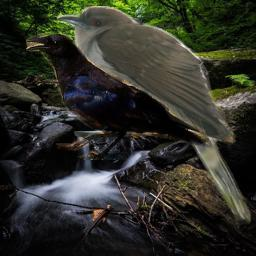Crow: (26, 33, 210, 160)
Cuckoo: (57, 6, 251, 227)
